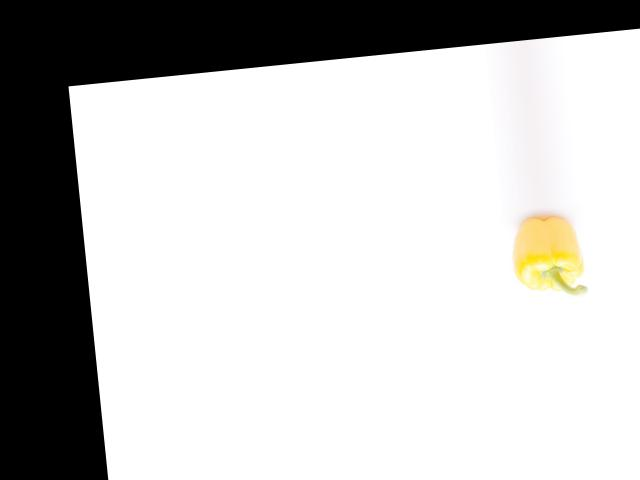bell_pepper: (502, 211, 590, 299)
